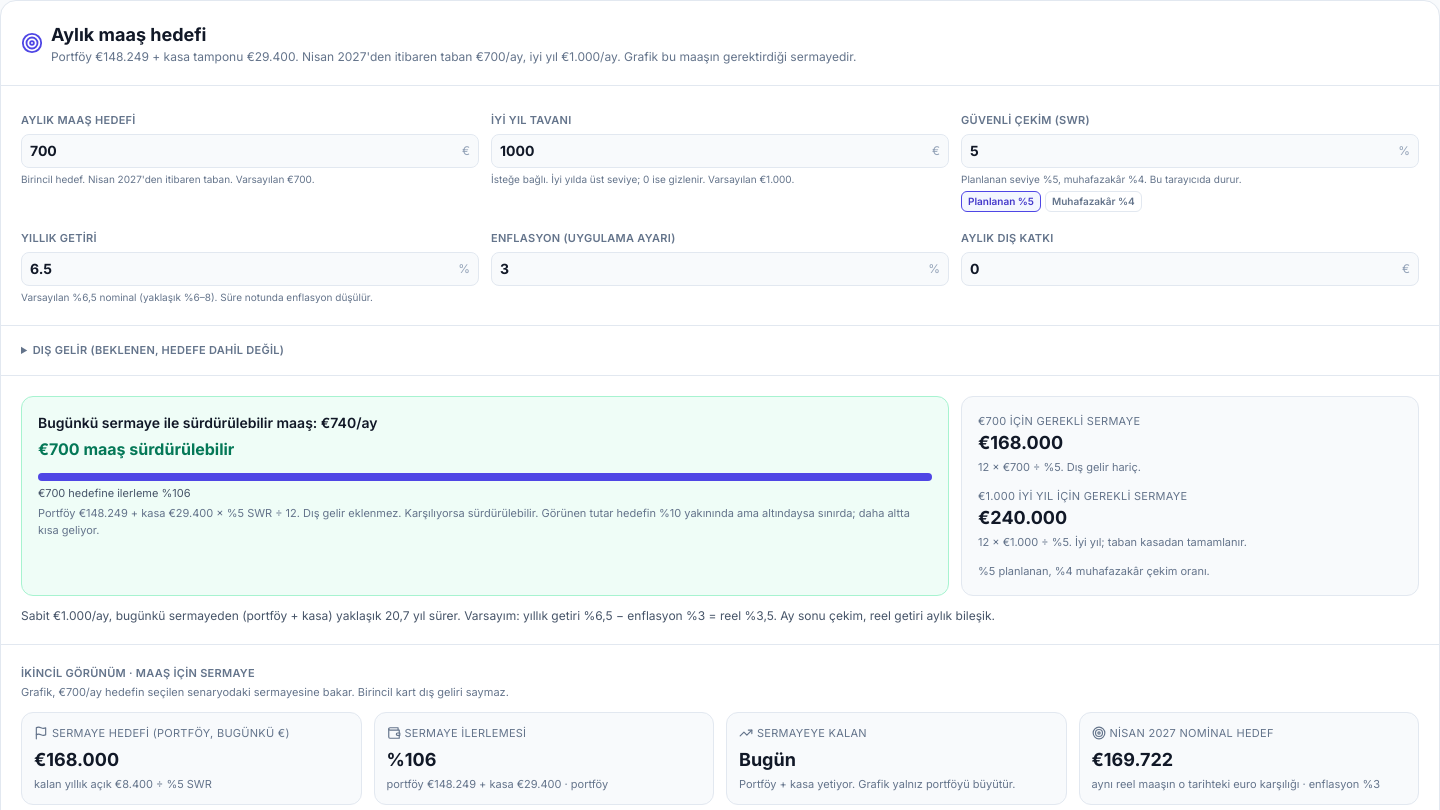
Test case: Hedef aylık maaş › iyi yıl 0 ise tavan ve süre notu gizlenir
Expected: the heading "Aylık maaş hedefi" is shown, [51,24,206,45]
Replace the text in the number field labelled "İyi yıl tavanı" with "0". click: (714, 151)
box: [500,141,928,161]
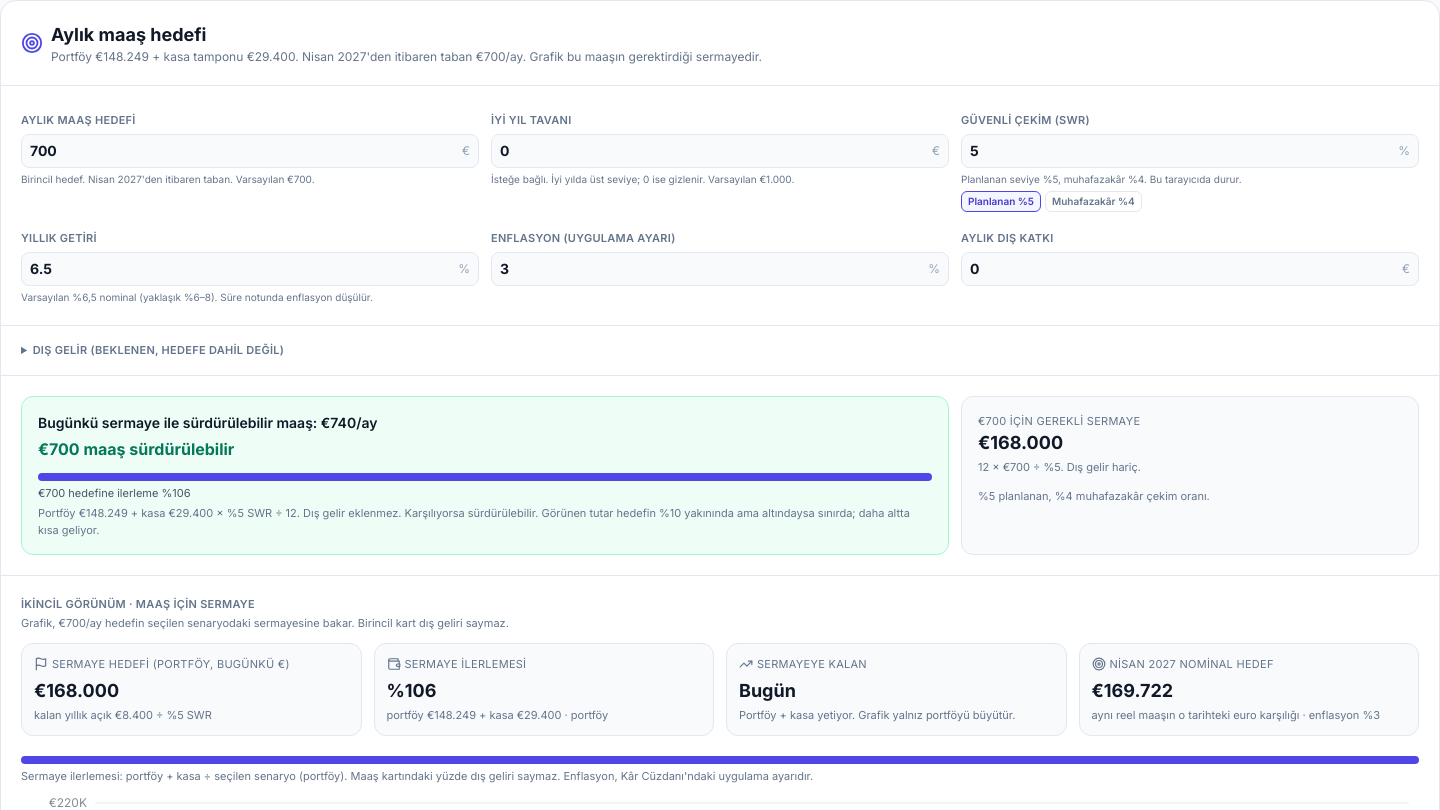
Expected: the text "iyi yıl için gerekli sermaye" is gone
